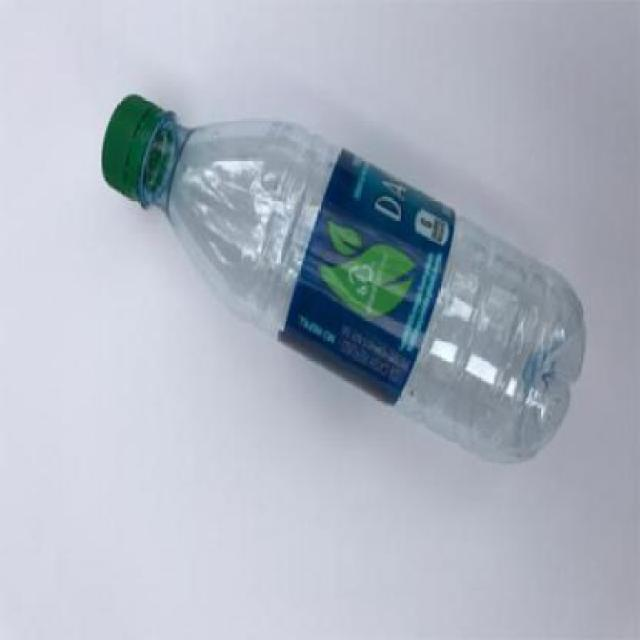Plastic: (101, 94, 589, 463)
